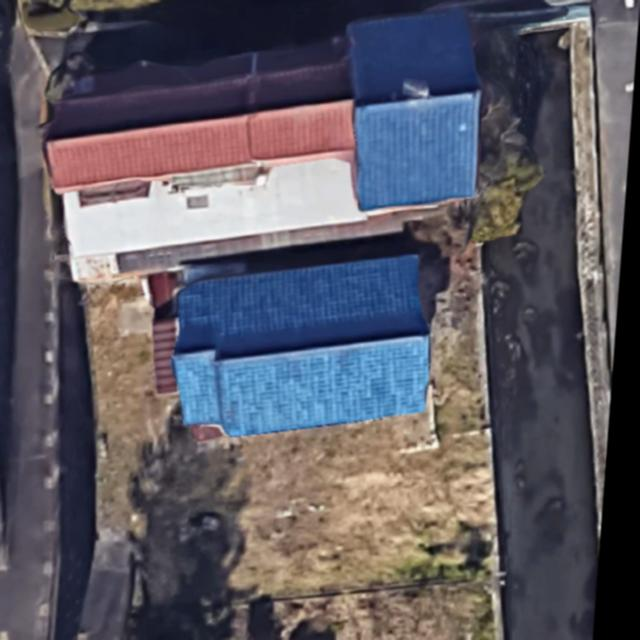Batiment: (47, 39, 358, 191), (177, 255, 435, 436), (347, 11, 483, 209)
